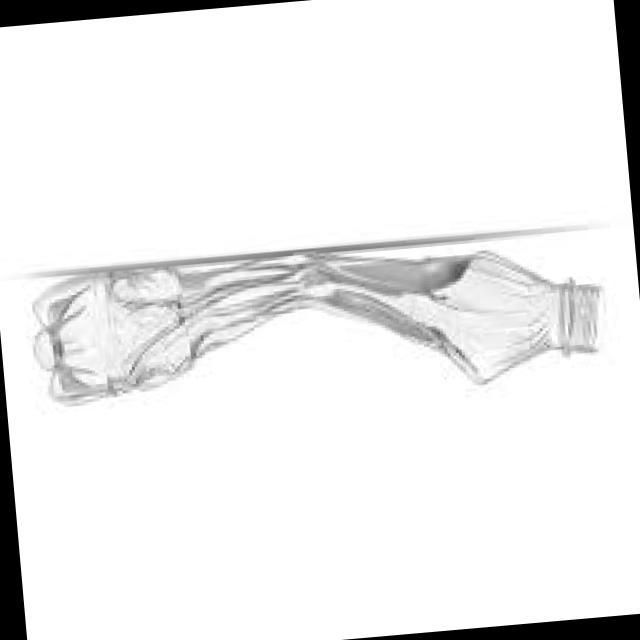defected: (18, 200, 622, 443)
